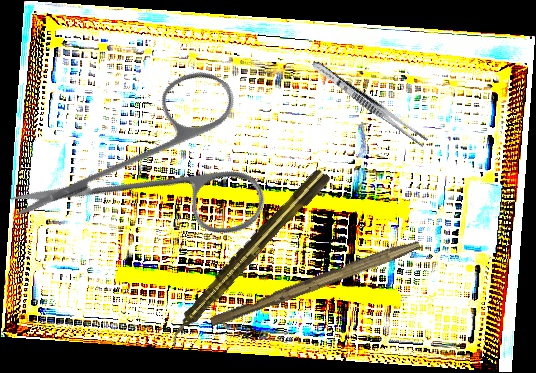Dressing Forceps: (309, 58, 430, 148)
Handpiece: (160, 165, 334, 348)
Iris Scissors: (4, 17, 310, 320)
Scalpel Handle: (208, 233, 422, 332)
